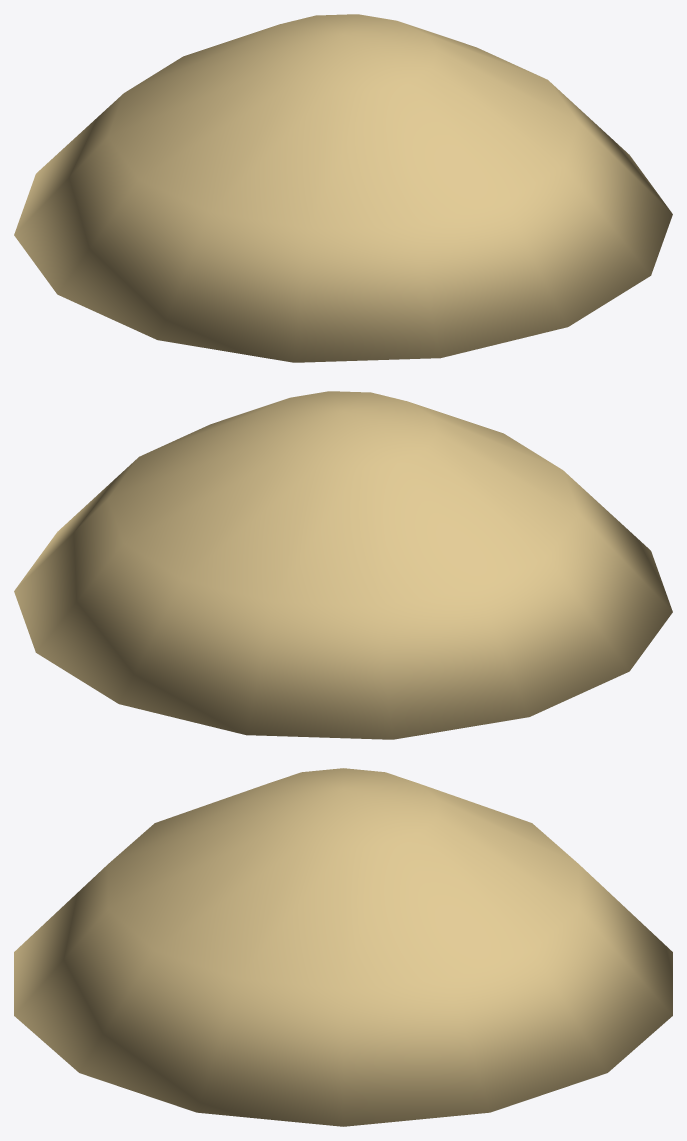
The model's file is Mineral_Sand.fbx.
3 renders of one model, top to bottom at view 1: azimuth 30°, elevation 25°; view 2: azimuth 150°, elevation 25°; view 3: azimuth 270°, elevation 25°, orthographic. The views are drawn at different scales.
Parts seen in each view (by area): view 1: Mineral_Sand__Stack; view 2: Mineral_Sand__Stack; view 3: Mineral_Sand__Stack.
Part boxes in pixels (box(x1,y1,x2,y2)): Mineral_Sand__Stack: box(14, 14, 672, 362); Mineral_Sand__Stack: box(14, 391, 672, 739); Mineral_Sand__Stack: box(14, 768, 672, 1126).
Bounding box in the file's own units: 0.252 × 0.08 × 0.2457.
